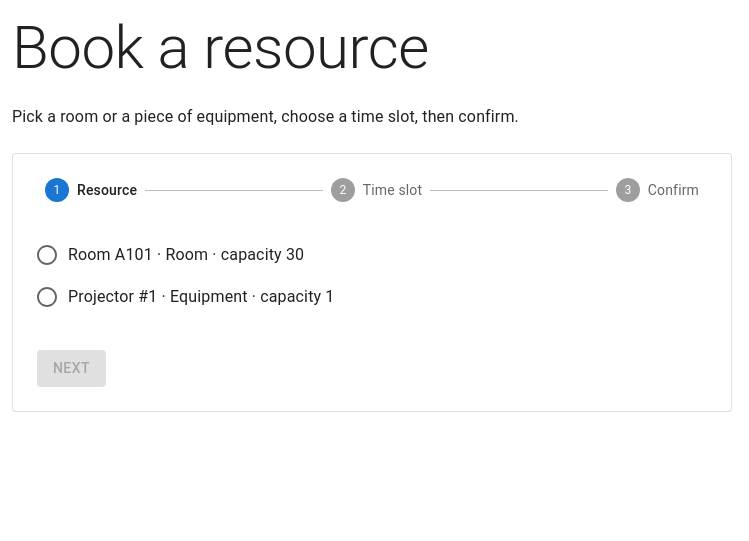
Test case: BookingPage (US-03, US-07) › shows the slots already booked on the chosen day, in local time
Click the radio button labelled "Room A101 · Room · capacity 30". click: (170, 255)
box: [35,243,304,267]
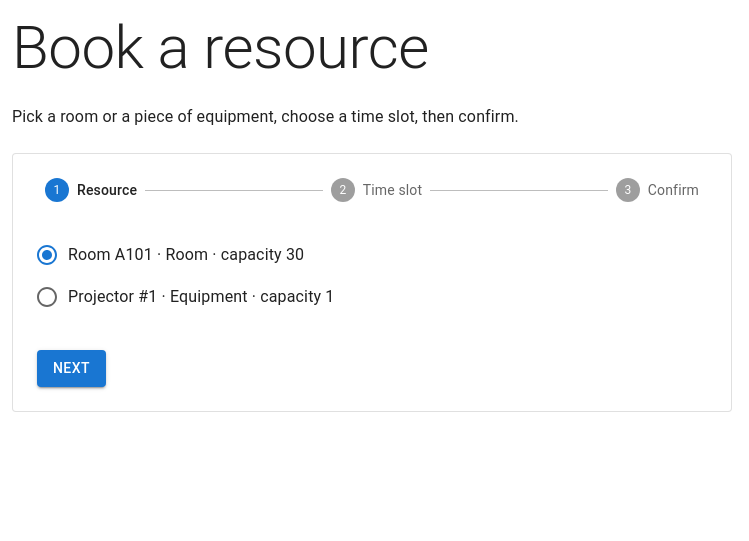
Click the button "Next". click: (71, 368)
box: [37,350,106,386]
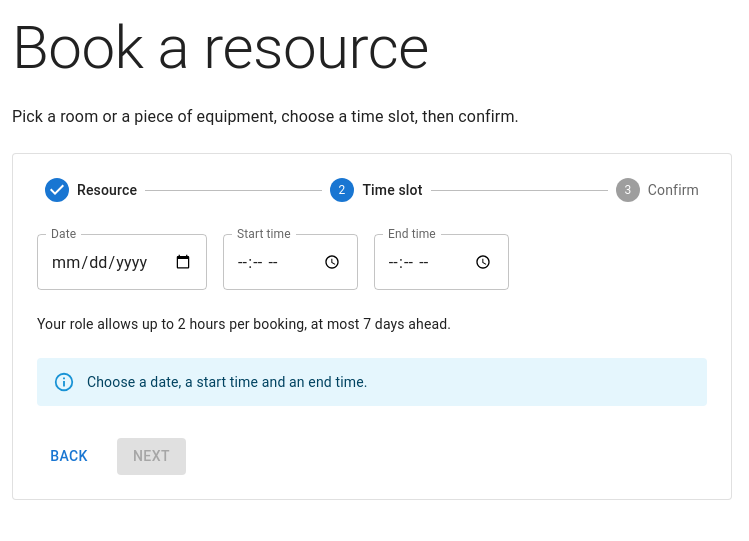
Type "2026-12-01" into the date field labelled "Date". click: (122, 262)
box: [37,234,207,290]
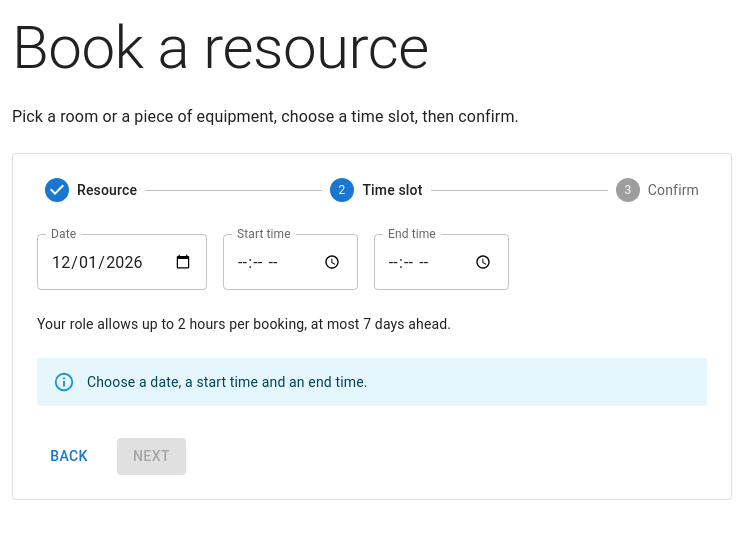
Type "10:00" into the time field labelled "Start time". click: (290, 262)
box: [223,234,358,290]
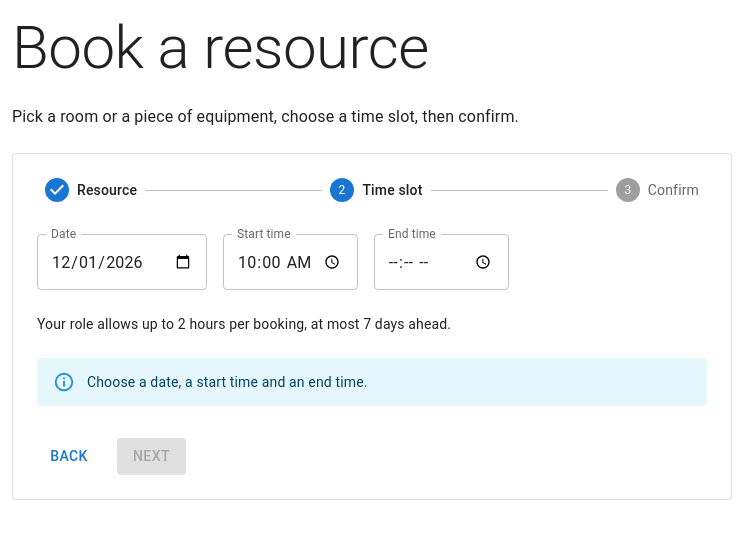
Type "11:00" into the time field labelled "End time". click: (441, 262)
box: [374,234,509,290]
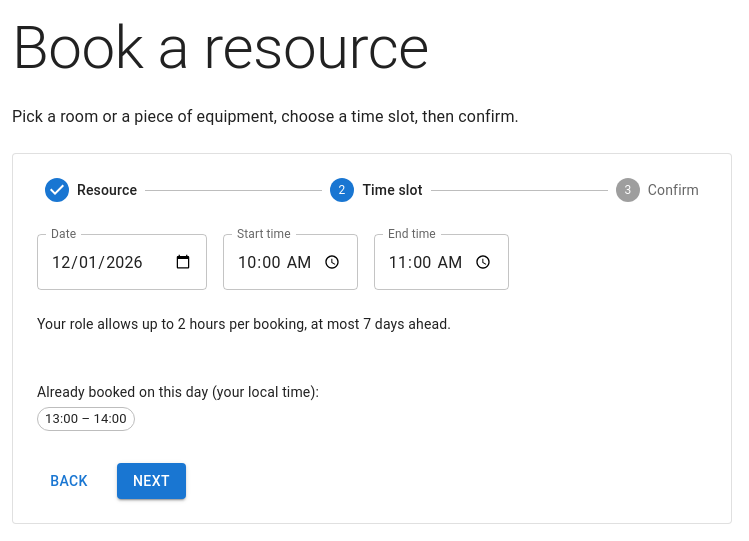
Expected: the text "Already booked on this day (your local time):" is shown, [37,384,319,400]
